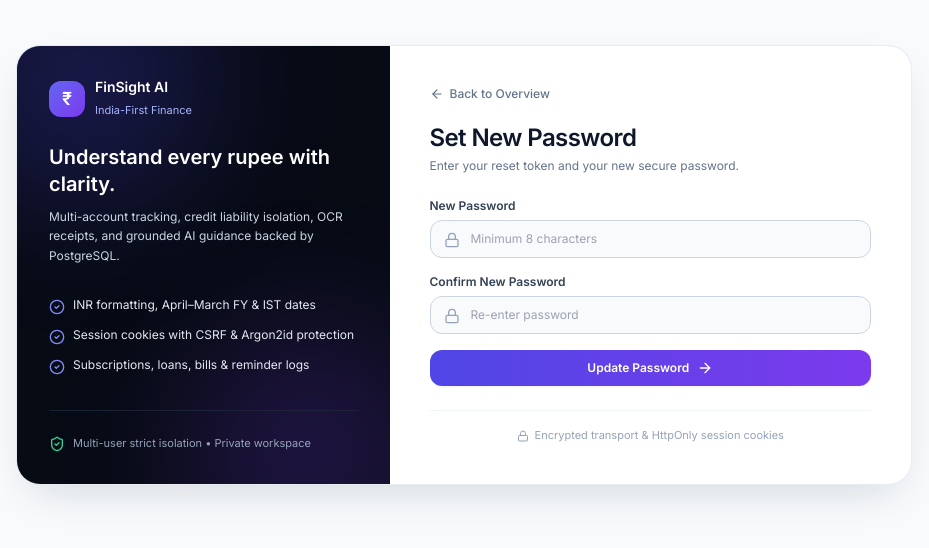
Scenario: Frontend Authentication and User Management Pages › renders reset password page and validates password matching
Check: the heading "Set New Password" is shown, box x1=430 y1=123 x2=636 y2=152
Type "newpassword123" into the password field with placeholder "Minimum 8 characters" at (650, 239), box x1=430 y1=220 x2=871 y2=258
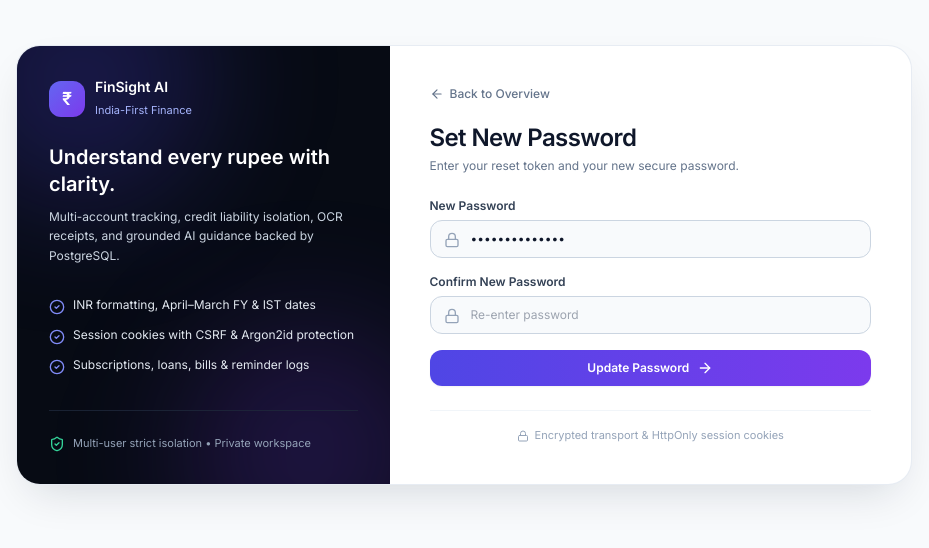
Type "differentpassword" into the password field with placeholder "Re-enter password" at (650, 315), box x1=430 y1=296 x2=871 y2=334
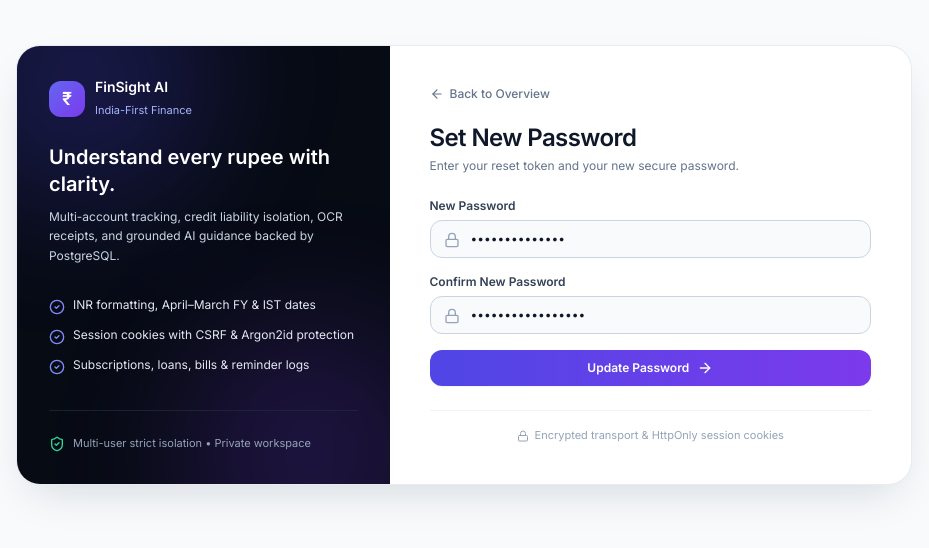
Click the button "Update Password" at (650, 368), box x1=430 y1=350 x2=871 y2=386
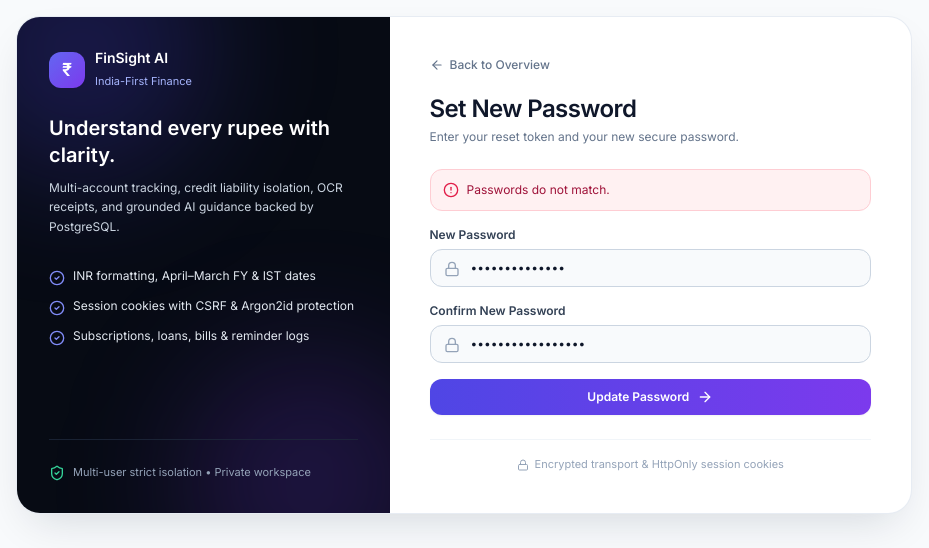
Check: the text "Passwords do not match." is shown, box x1=466 y1=182 x2=610 y2=198
